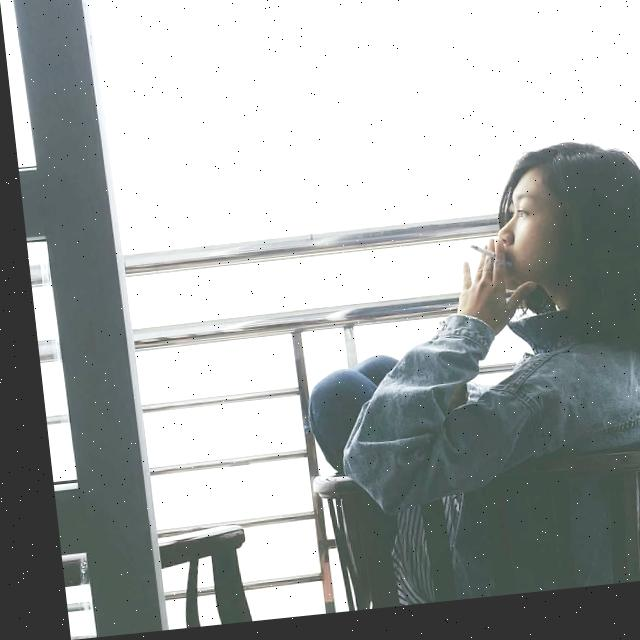cigarette: (463, 252, 489, 270)
